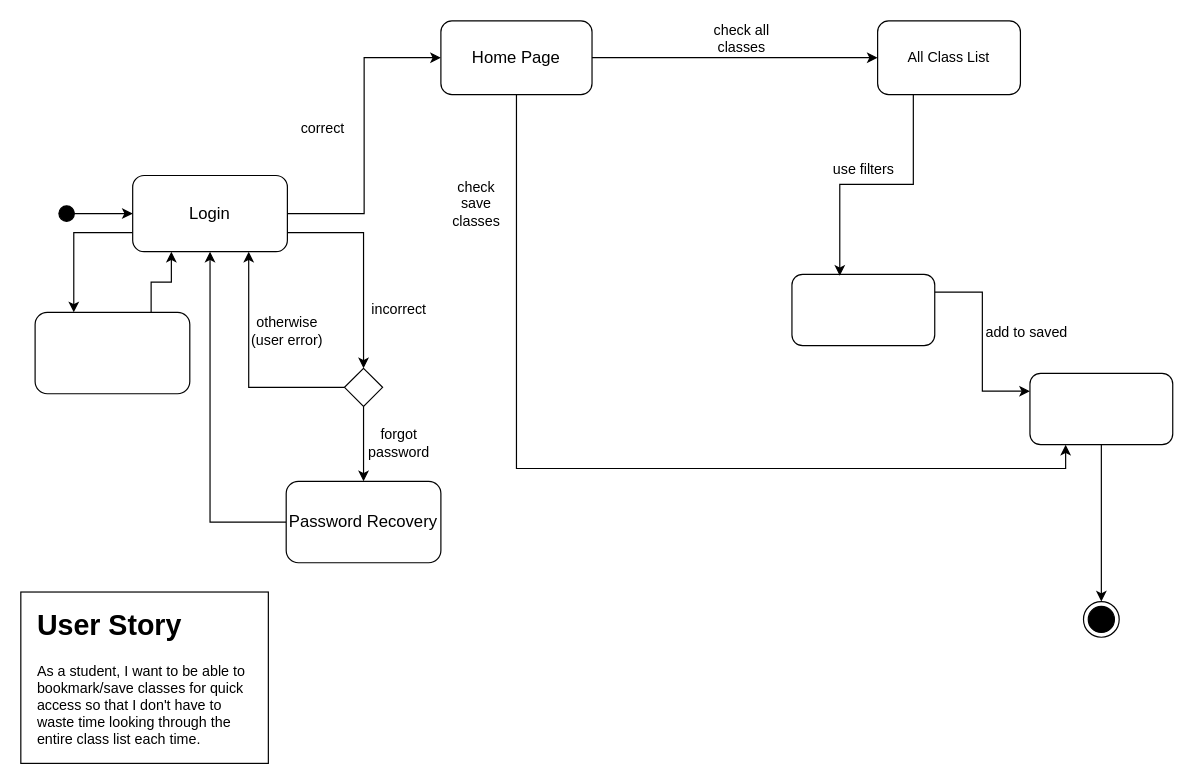
The diagram is 1194 pixels wide and 784 high, and some of its shapes have lost their labels. Each missing label, with the box of its shape:
Filtered Classes: (791, 273, 935, 346)
Saved Classes: (1029, 372, 1173, 445)
Signup: (34, 311, 190, 394)
